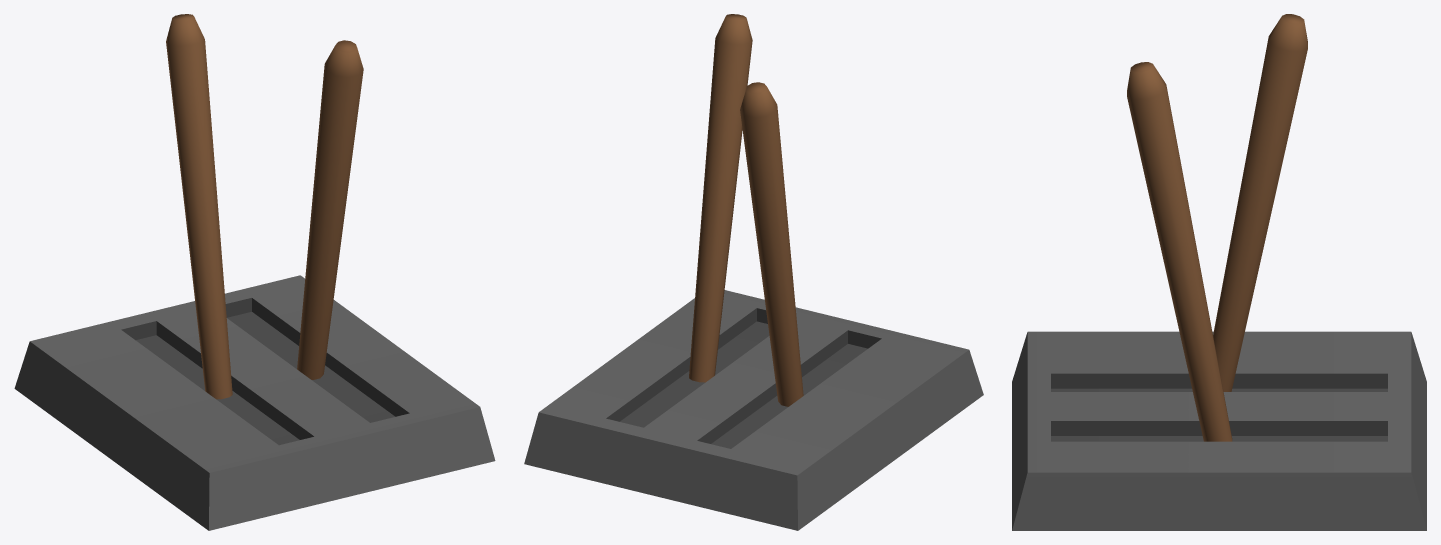
Rendered from Big_Control_Stick_4.fbx.
The picture shows the model from 3 angles, left to right: view 1: azimuth 30°, elevation 25°; view 2: azimuth 150°, elevation 25°; view 3: azimuth 270°, elevation 25°; orthographic projection. The views are drawn at different scales.
Visible parts, largest first — view 1: Big_Control_Stick_4, Big_Control_Stick_4.002, Big_Control_Stick_4.001; view 2: Big_Control_Stick_4, Big_Control_Stick_4.001, Big_Control_Stick_4.002; view 3: Big_Control_Stick_4, Big_Control_Stick_4.001, Big_Control_Stick_4.002.
Part boxes in pixels (<box>): Big_Control_Stick_4: <box>14,275,495,530</box>; Big_Control_Stick_4.002: <box>166,14,232,399</box>; Big_Control_Stick_4.001: <box>297,40,363,379</box>; Big_Control_Stick_4: <box>524,290,983,530</box>; Big_Control_Stick_4.001: <box>689,14,752,382</box>; Big_Control_Stick_4.002: <box>740,82,803,406</box>; Big_Control_Stick_4: <box>1012,331,1426,530</box>; Big_Control_Stick_4.001: <box>1127,62,1232,441</box>; Big_Control_Stick_4.002: <box>1213,14,1307,391</box>.
Size of the model in its own units: 36.93 by 48.42 by 43.38.
Materials: 1 (1 with a texture image).
